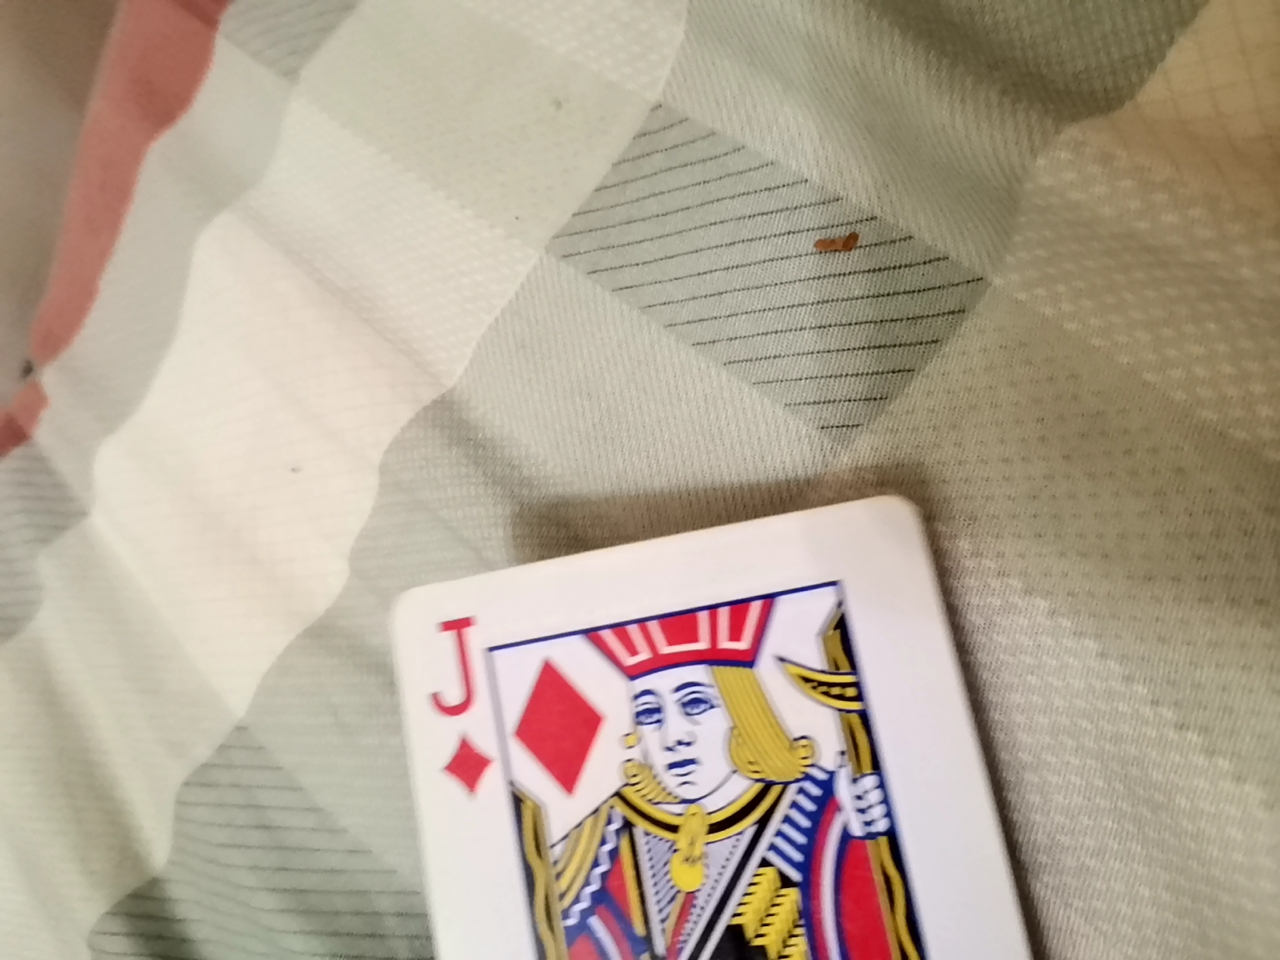fk j: (394, 497, 1112, 954)
